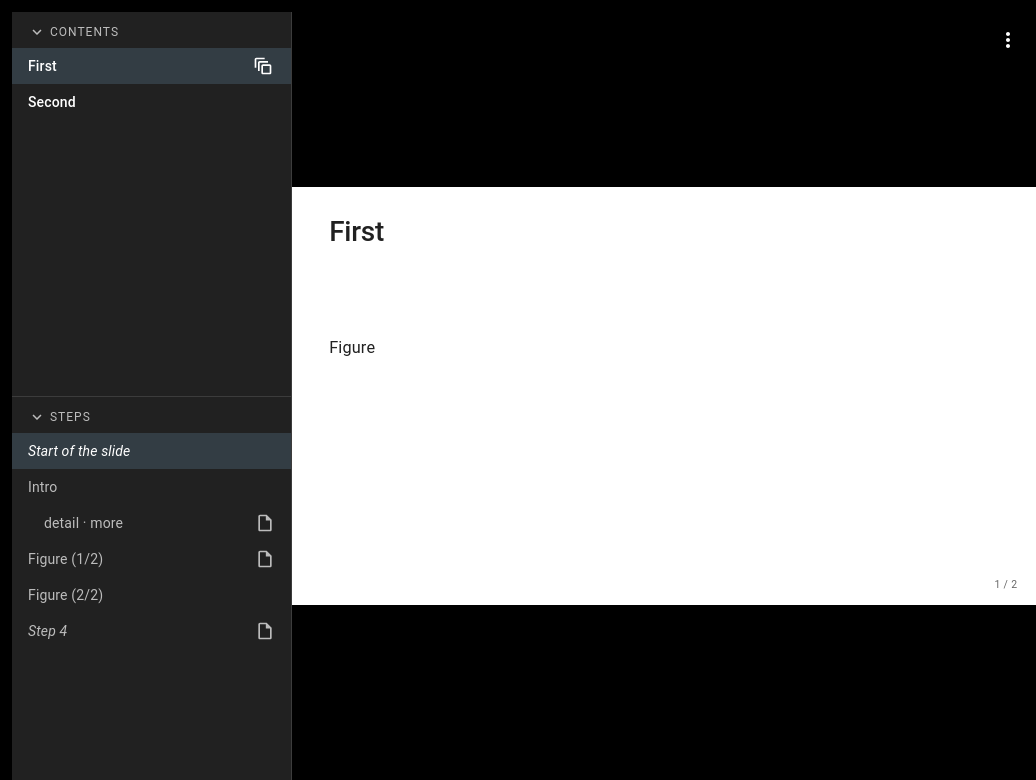
Test: StepTree › is toggled with Shift+T, and shares the sidebar with the contents
Type keys "{Shift>}T{/Shift}"
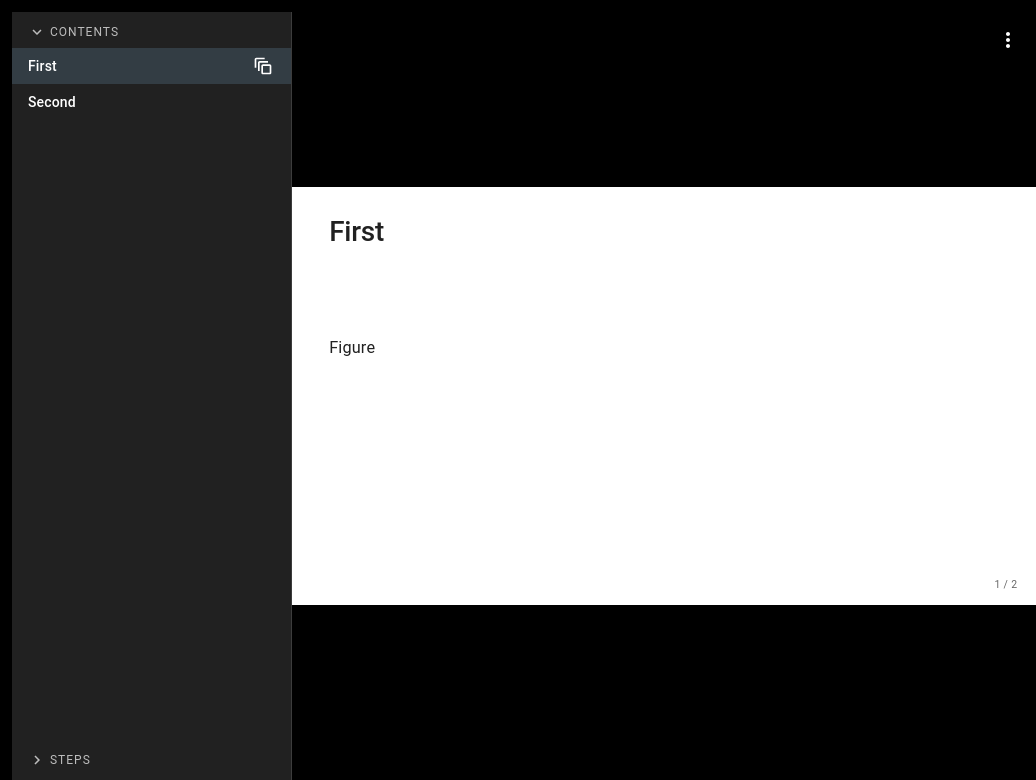
Expected: the button "Steps" is collapsed
Note: The collapsed section stays in the sidebar while the other is expanded.
Click the button "Steps" at (70, 760), box [12,740,291,779]
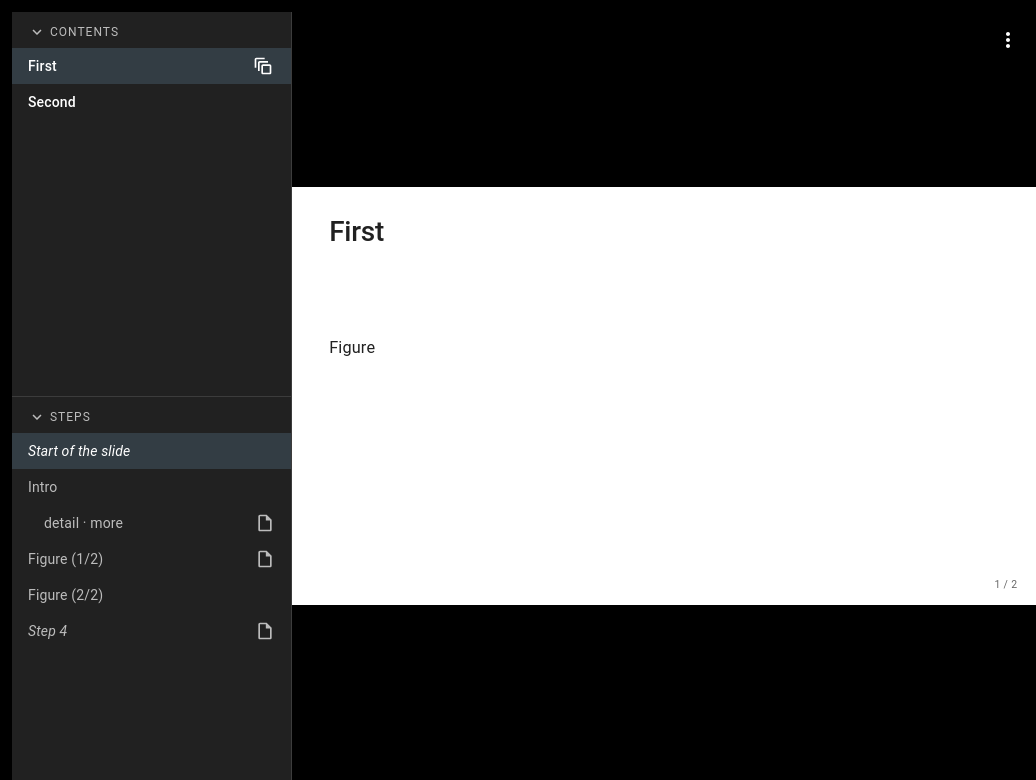
Expected: the navigation bar named "Steps" is shown, [12,432,291,657]
Click the button "Contents" at (85, 32), box [12,12,291,48]
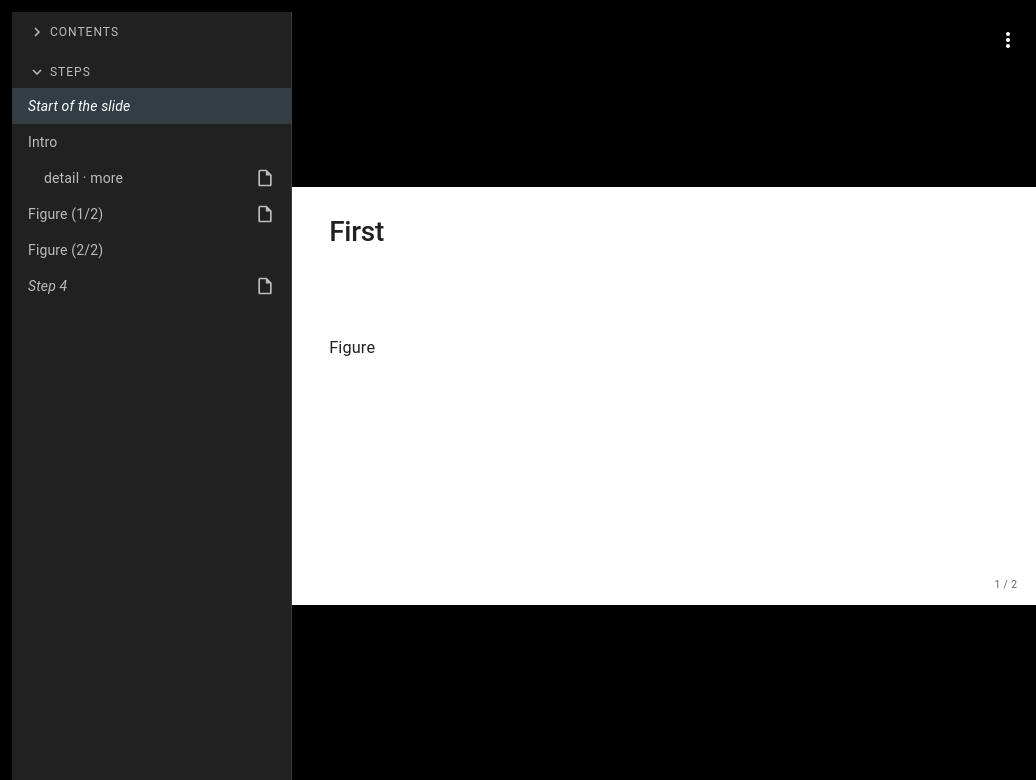
Click the button "Steps" at (70, 72), box [12,52,291,88]
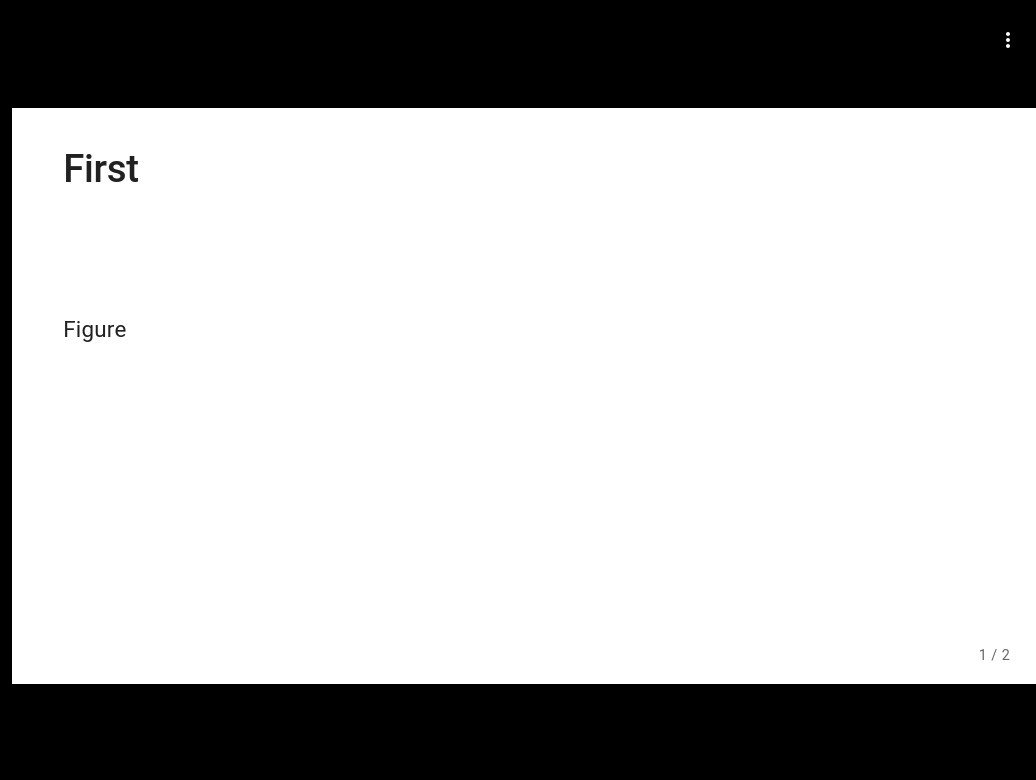
Expected: the button "Contents" is gone
